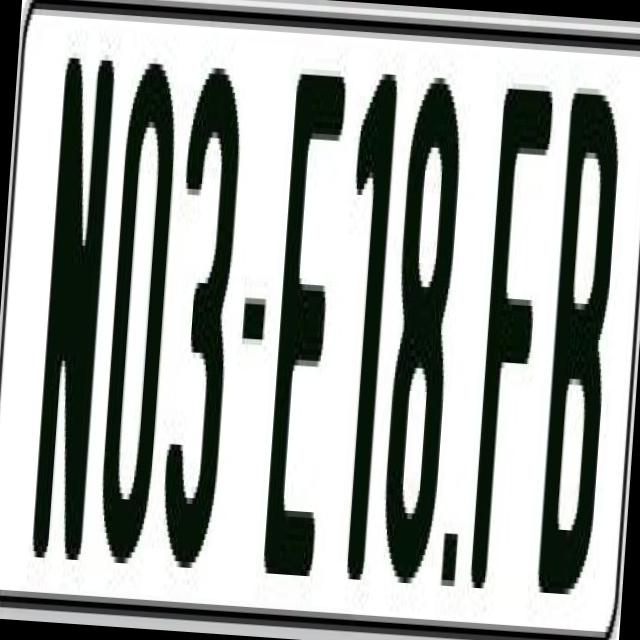0: (93, 50, 183, 571)
1: (324, 66, 396, 608)
3: (157, 49, 247, 558)
8: (374, 58, 462, 590)
B: (532, 92, 622, 596)
E: (262, 68, 348, 588)
F: (468, 82, 556, 614)
N: (30, 57, 114, 577)
